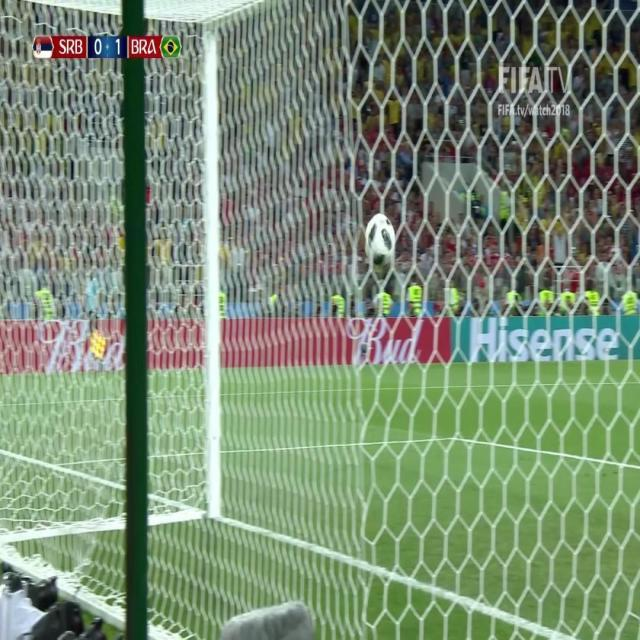ball: (359, 209, 401, 274)
